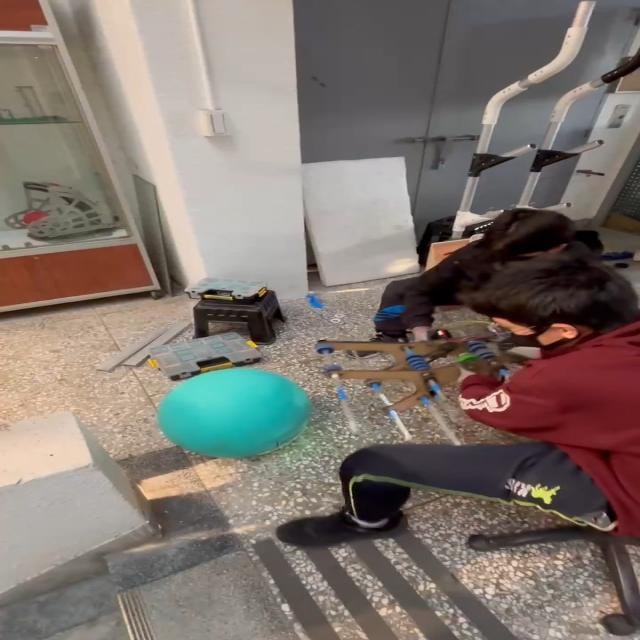ALGAE: (154, 367, 313, 459)
